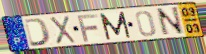0: (134, 9, 157, 37)
D: (23, 17, 52, 48)
F: (76, 13, 100, 43)
M: (98, 11, 133, 41)
N: (155, 6, 187, 38)
X: (48, 15, 78, 45)
